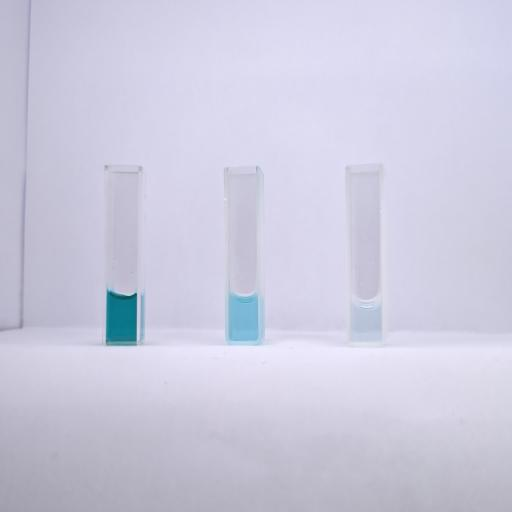cuvette: (344, 162, 388, 347), (101, 163, 144, 346), (222, 165, 264, 346)
liquid: (106, 292, 137, 341), (228, 292, 258, 340), (350, 298, 382, 342)
